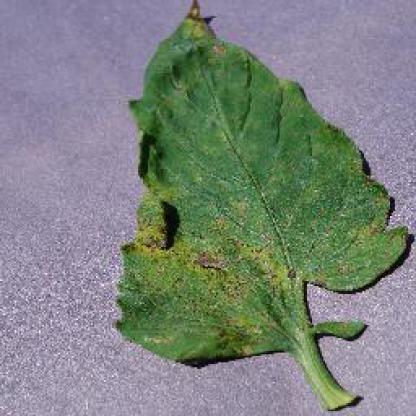bad leaf: (124, 5, 414, 414)
